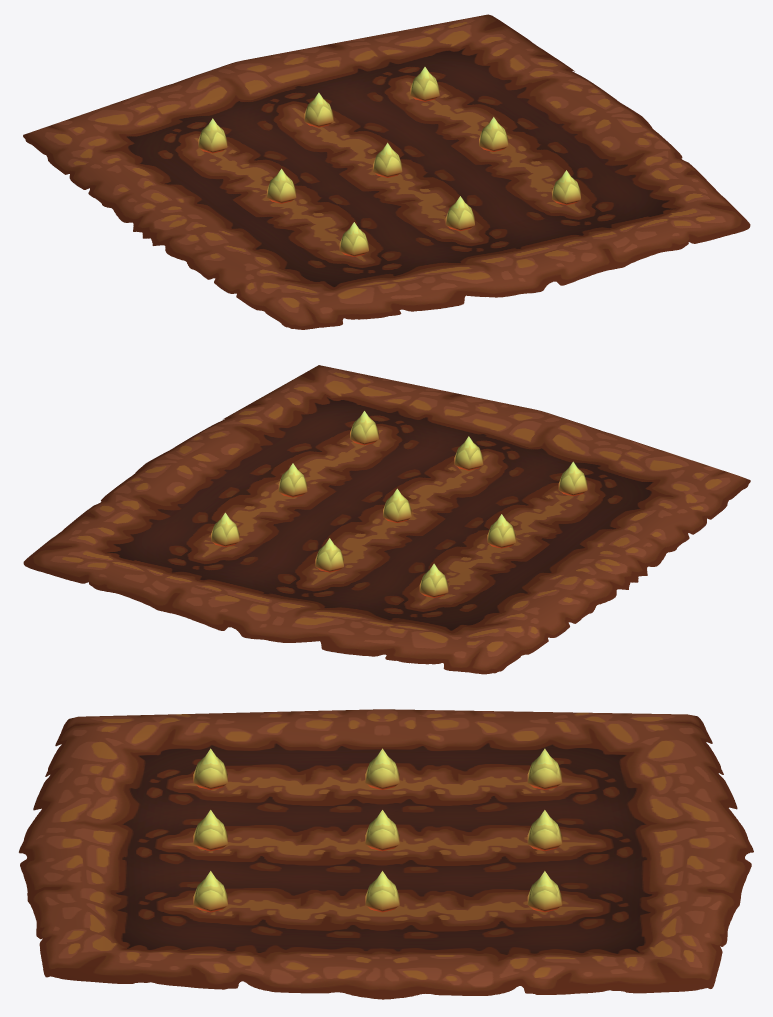
The model's file is Tulip_Field_Yellow_Lv1.FBX.
3 renders of one model, top to bottom at view 1: azimuth 30°, elevation 25°; view 2: azimuth 150°, elevation 25°; view 3: azimuth 270°, elevation 25°, orthographic. The views are drawn at different scales.
Visible parts, largest first — view 1: Tulip_Field_Yellow_Lv1; view 2: Tulip_Field_Yellow_Lv1; view 3: Tulip_Field_Yellow_Lv1.
Part boxes in pixels (x1,y1,x2,y2): Tulip_Field_Yellow_Lv1: (23, 14, 750, 329); Tulip_Field_Yellow_Lv1: (23, 365, 750, 674); Tulip_Field_Yellow_Lv1: (18, 709, 753, 999).
Bounding box in the file's own units: 274 × 19.63 × 296.
